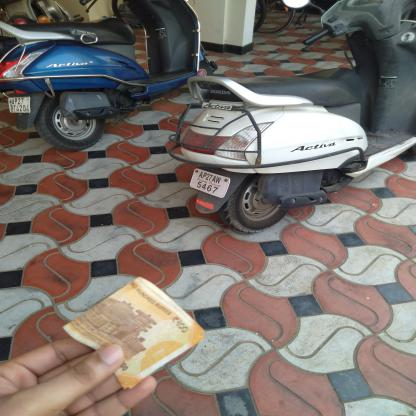New200Back: (69, 279, 193, 386)
